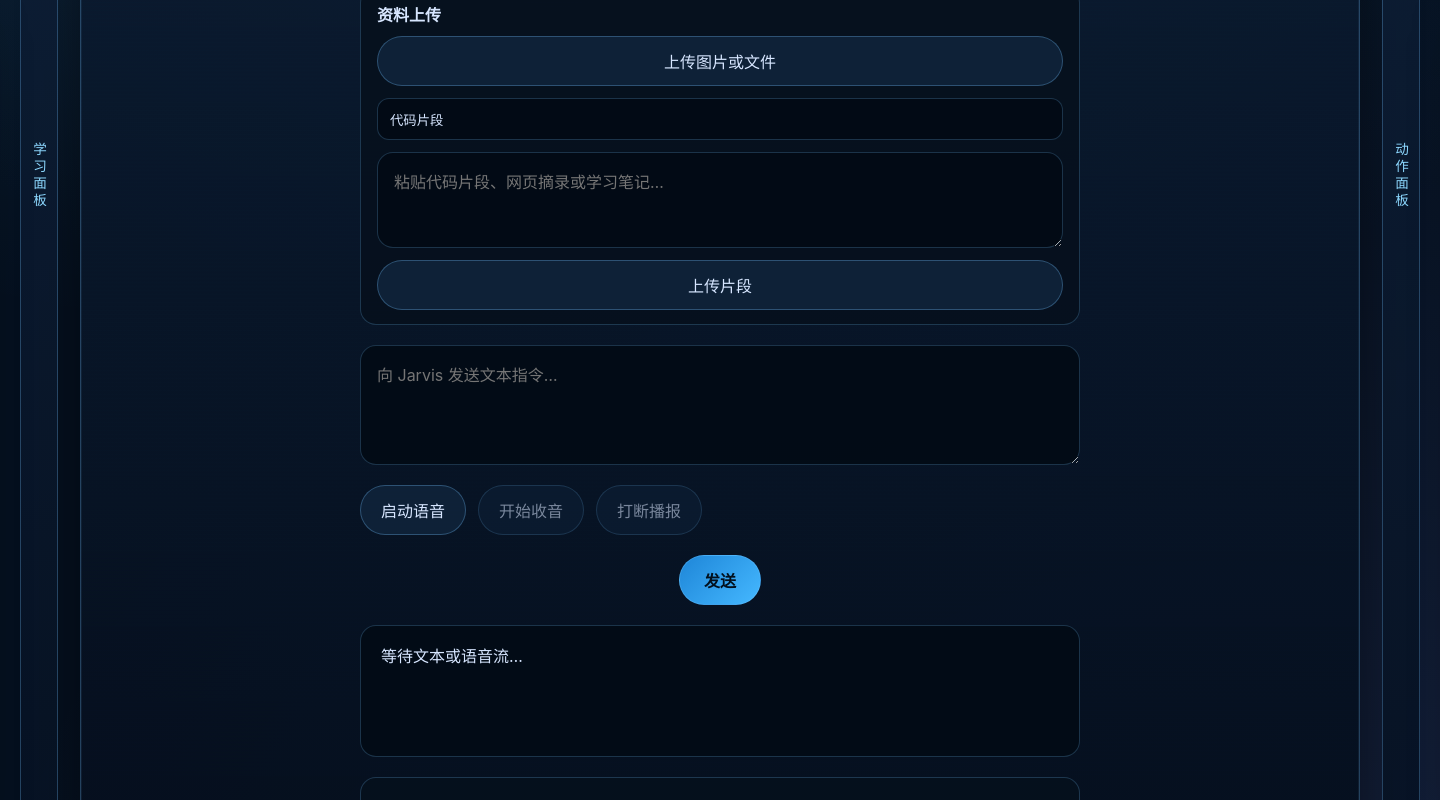
Scenario: submits text and renders the streamed answer
This screenshot has width=1440, height=800.
(page scrolled)
Type "open console" into the text box with placeholder "向 Jarvis 发送文本指令…". click: (720, 405)
box: left=360, top=345, right=1080, bottom=465
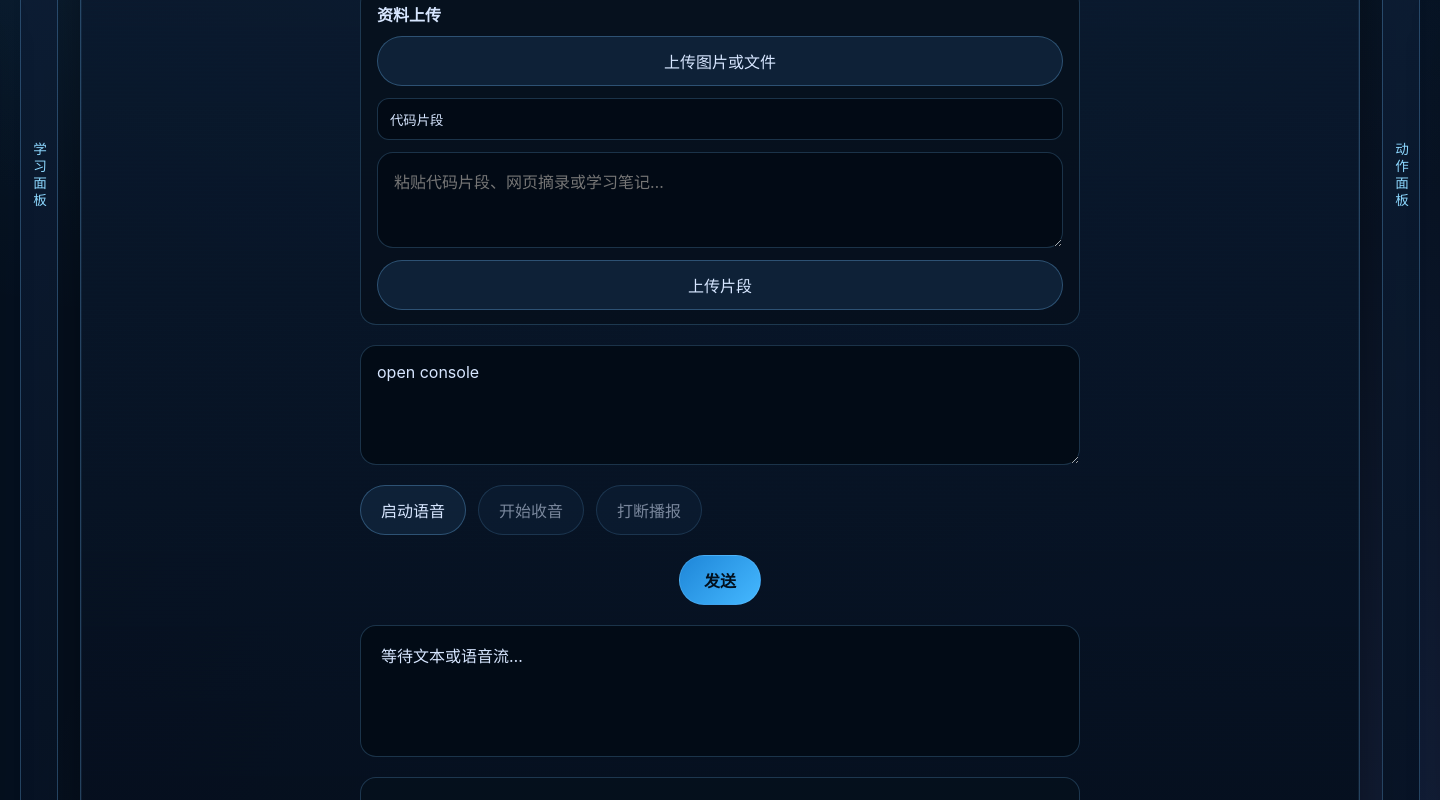
Click the button "发送". click: click(720, 580)
box: left=679, top=555, right=761, bottom=605
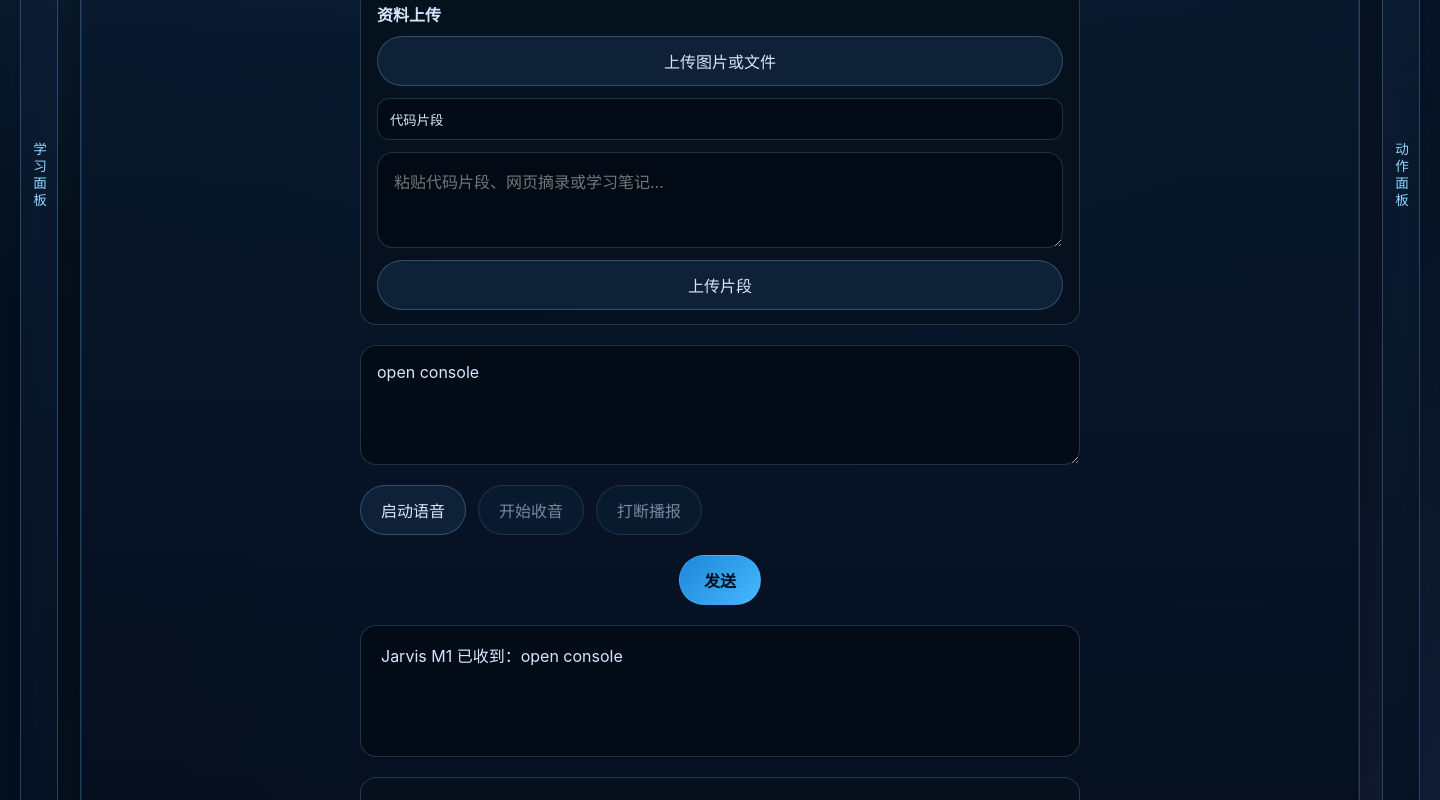
Now the text "Jarvis M1 已收到：open console" is shown, box left=360, top=625, right=1080, bottom=757
